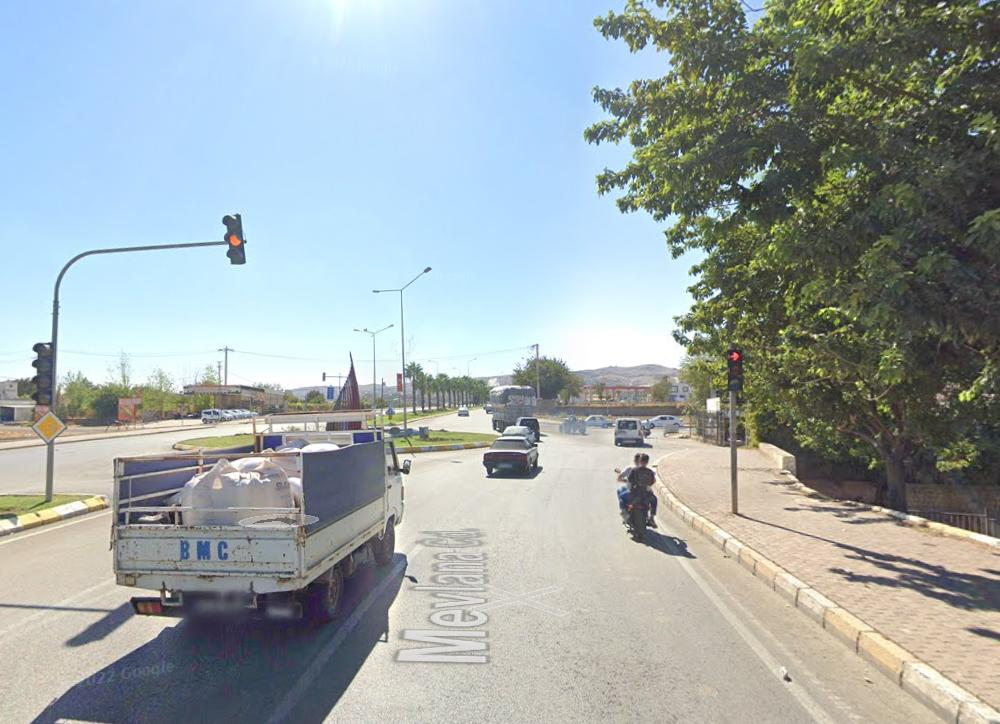redlight: (730, 348, 743, 393)
yellowlight: (223, 211, 249, 266)
